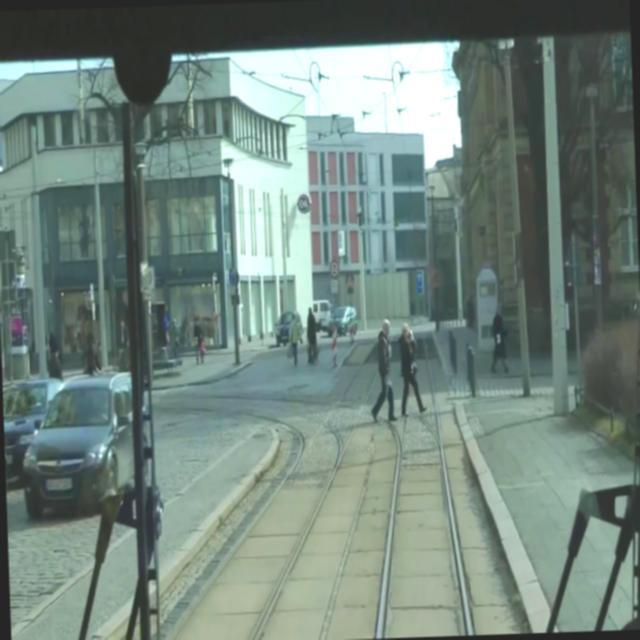danger: (362, 319, 430, 428)
rail: (152, 321, 506, 639)
